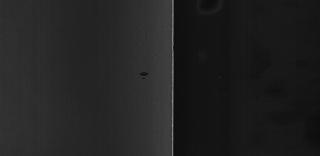oil spot: (138, 65, 154, 85)
